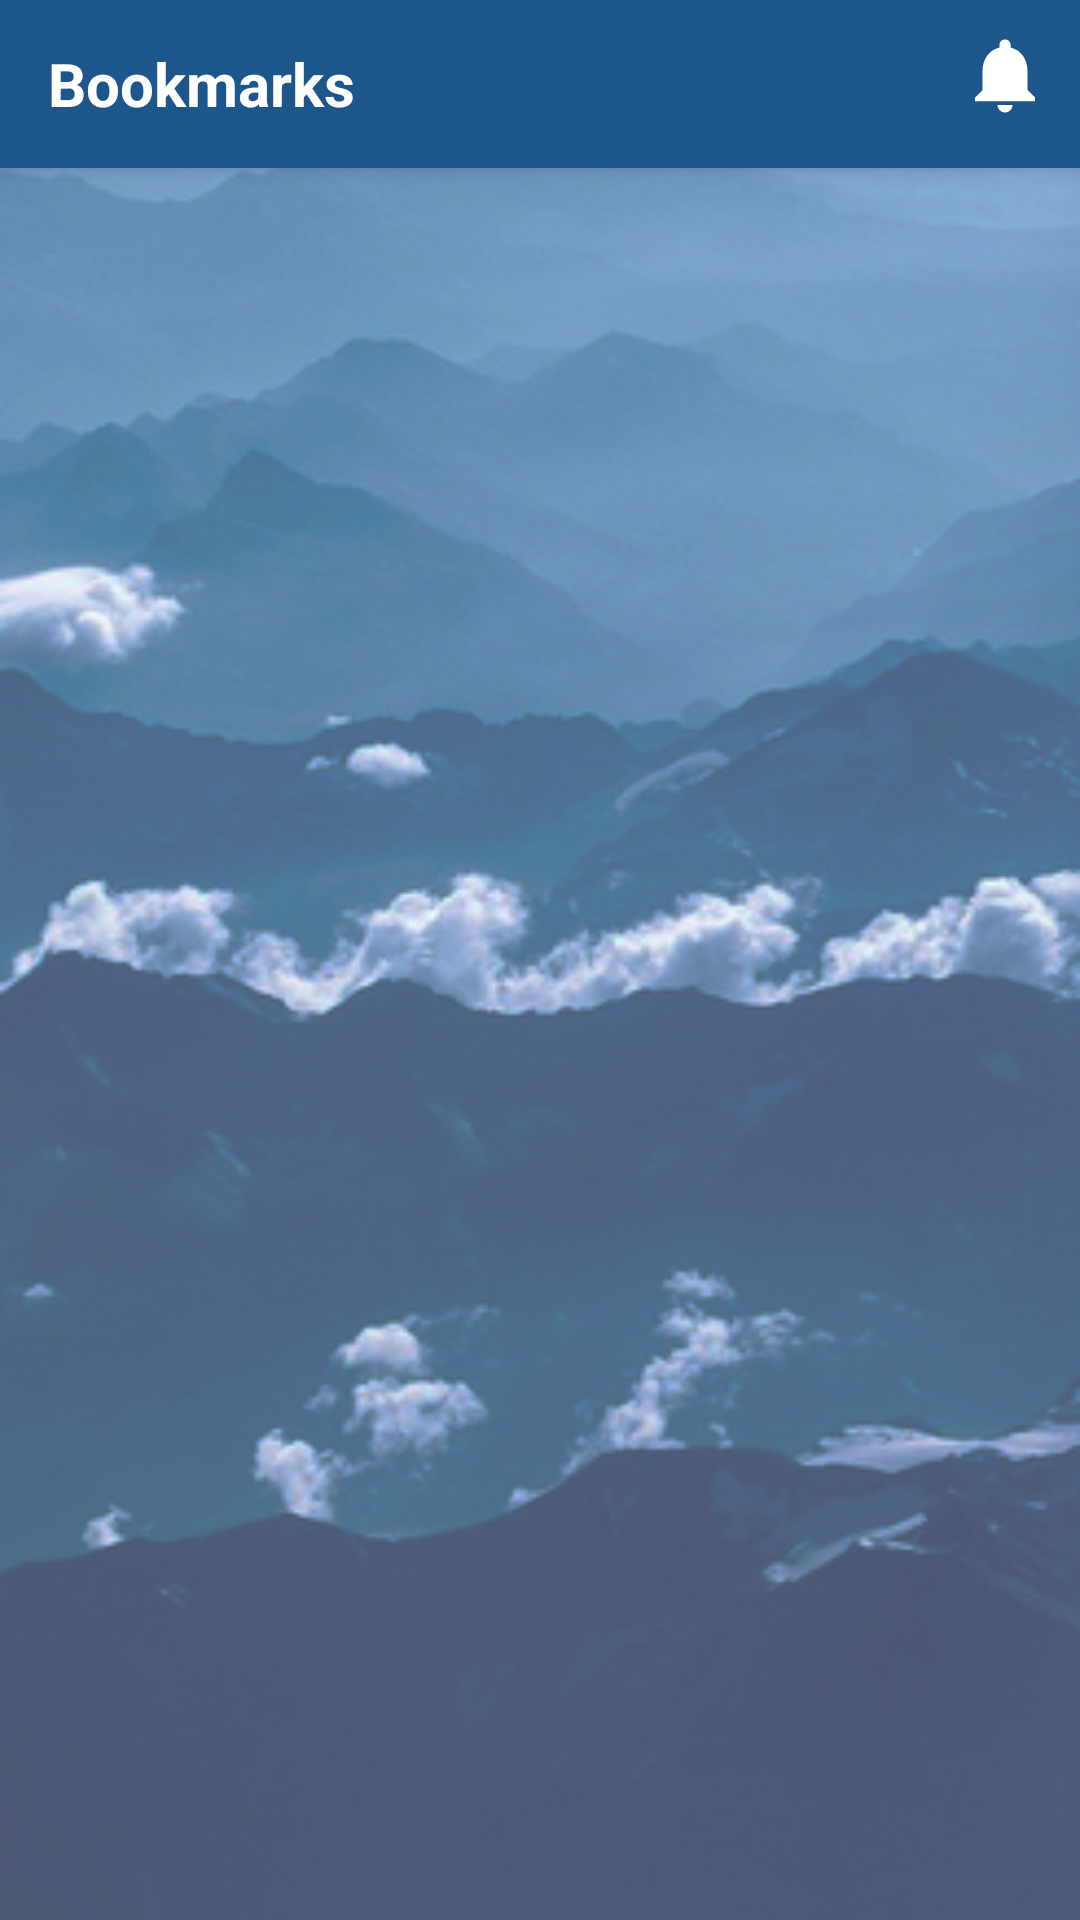

Icons on this 1080x1920 Android screen, each with its box as (x1, y1, x2, y2):
notifications: (975, 39, 1035, 113)
